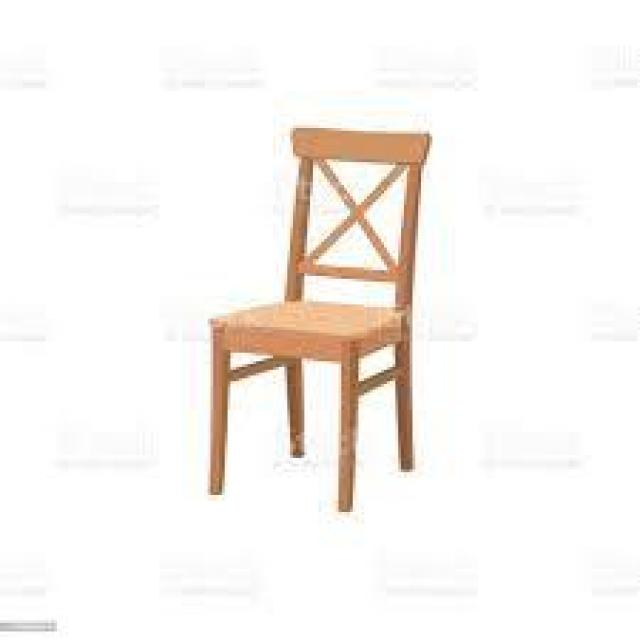chair: (175, 81, 439, 522)
